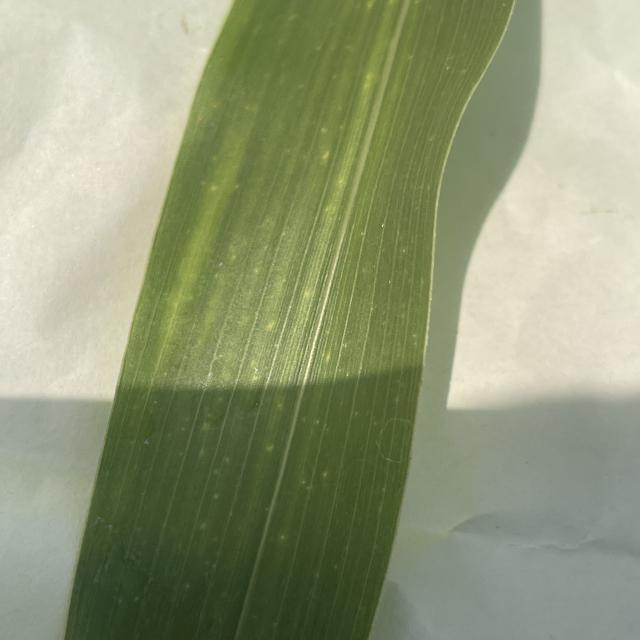millet_healthy: (68, 0, 542, 640)
